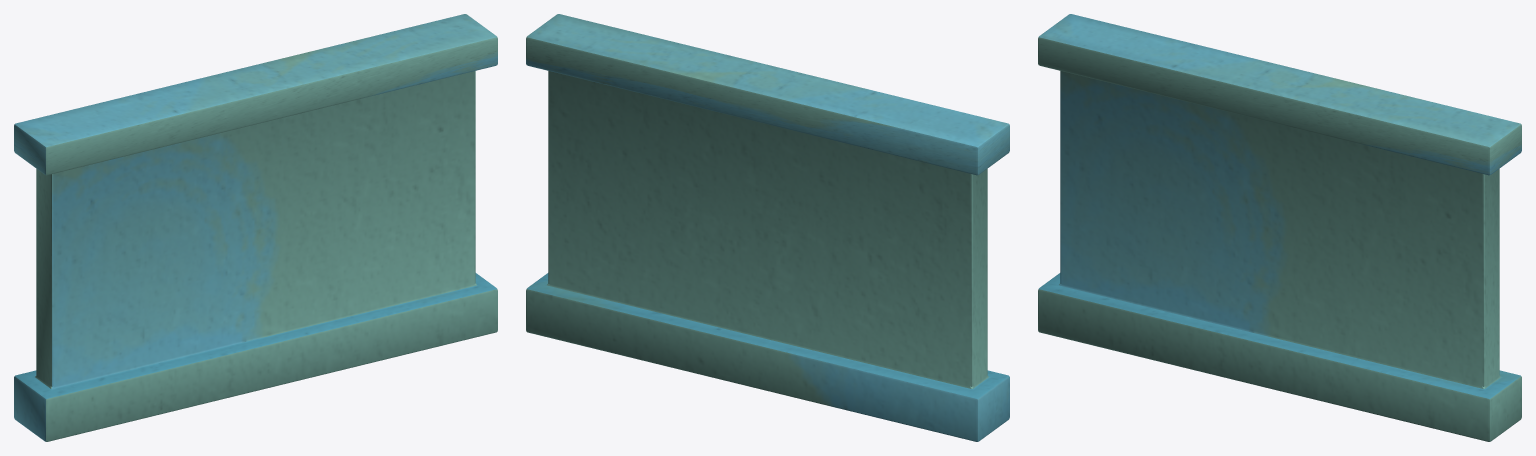
Rendered from TOMB_WALL_3_2_002.obj.
3 renders of one model, left to right at view 1: azimuth 30°, elevation 25°; view 2: azimuth 150°, elevation 25°; view 3: azimuth 330°, elevation 25°, orthographic.
Visible parts, largest first — view 1: TOMB_WALL_3_2_002; view 2: TOMB_WALL_3_2_002; view 3: TOMB_WALL_3_2_002.
Part boxes in pixels (x1,y1,x2,y2): TOMB_WALL_3_2_002: (14, 14, 497, 441); TOMB_WALL_3_2_002: (526, 14, 1009, 441); TOMB_WALL_3_2_002: (1038, 14, 1521, 441).
Size of the model in its own units: 3.2 by 2 by 0.4.
2 materials, 2 textured.
